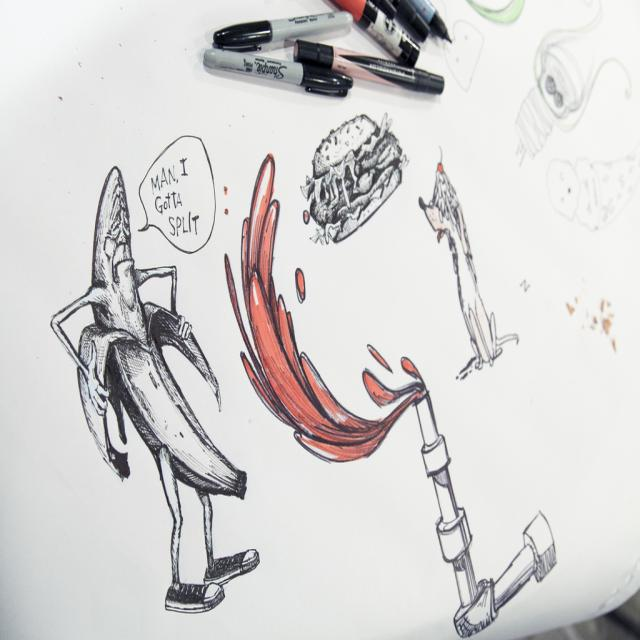pen: (206, 0, 453, 97)
